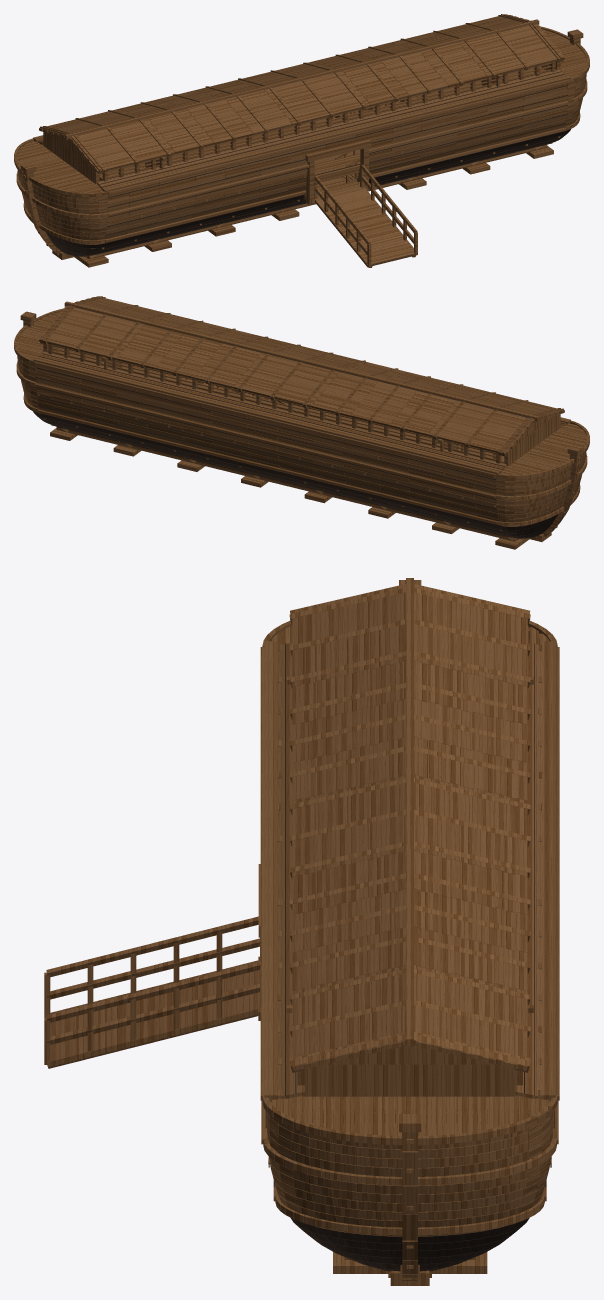
Rendered from BLD_NoahsArk.glb.
The picture shows the model from 3 angles, top to bottom: view 1: azimuth 30°, elevation 25°; view 2: azimuth 150°, elevation 25°; view 3: azimuth 270°, elevation 25°; orthographic projection. The views are drawn at different scales.
Parts seen in each view (by area): view 1: Stage3_RoofCutaway_Mesh, Stage2_HullFrontCutaway_Mesh, Stage2_HullBackEnds_Mesh, Stage2_HullFrontCutaway_Bitumen_Mesh, Stage3_Ramp_Mesh, Interior_3Decks_Mesh, Stage1_KeelRibs_Mesh, Stage2_HullBackEnds_Bitumen_Mesh; view 2: Stage2_HullBackEnds_Mesh, Stage3_RoofCutaway_Mesh, Stage2_HullBackEnds_Bitumen_Mesh, Interior_3Decks_Mesh, Stage1_KeelRibs_Mesh; view 3: Stage3_RoofCutaway_Mesh, Stage2_HullBackEnds_Mesh, Stage3_Ramp_Mesh, Stage2_HullFrontCutaway_Mesh, Stage2_HullBackEnds_Bitumen_Mesh, Stage1_KeelRibs_Mesh, Interior_3Decks_Mesh.
Boxes of the visible parts, left/top/right/bottom form: Stage3_RoofCutaway_Mesh: left=39, top=14, right=564, bottom=183; Stage2_HullFrontCutaway_Mesh: left=97, top=69, right=570, bottom=242; Stage2_HullBackEnds_Mesh: left=14, top=26, right=589, bottom=257; Stage2_HullFrontCutaway_Bitumen_Mesh: left=92, top=69, right=568, bottom=255; Stage3_Ramp_Mesh: left=314, top=164, right=417, bottom=267; Interior_3Decks_Mesh: left=52, top=67, right=547, bottom=259; Stage1_KeelRibs_Mesh: left=38, top=66, right=566, bottom=267; Stage2_HullBackEnds_Bitumen_Mesh: left=39, top=129, right=570, bottom=256; Stage2_HullBackEnds_Mesh: left=14, top=308, right=589, bottom=539; Stage3_RoofCutaway_Mesh: left=39, top=296, right=564, bottom=466; Stage2_HullBackEnds_Bitumen_Mesh: left=33, top=351, right=558, bottom=538; Interior_3Decks_Mesh: left=56, top=349, right=551, bottom=541; Stage1_KeelRibs_Mesh: left=37, top=349, right=565, bottom=549; Stage3_RoofCutaway_Mesh: left=289, top=578, right=530, bottom=1096; Stage2_HullBackEnds_Mesh: left=258, top=580, right=559, bottom=1280; Stage3_Ramp_Mesh: left=44, top=916, right=260, bottom=1068; Stage2_HullFrontCutaway_Mesh: left=260, top=641, right=304, bottom=1201; Stage2_HullBackEnds_Bitumen_Mesh: left=290, top=643, right=554, bottom=1271; Stage1_KeelRibs_Mesh: left=268, top=644, right=551, bottom=1285; Interior_3Decks_Mesh: left=282, top=676, right=533, bottom=1279.
Size of the model in its own units: 22.51 by 4.6 by 9.02.
2 materials, 2 textured.
